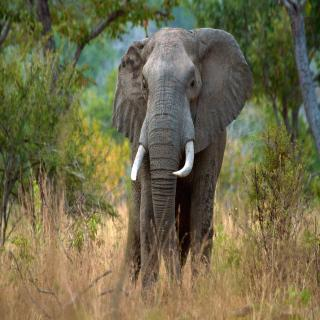Elephant: (110, 23, 256, 286)
